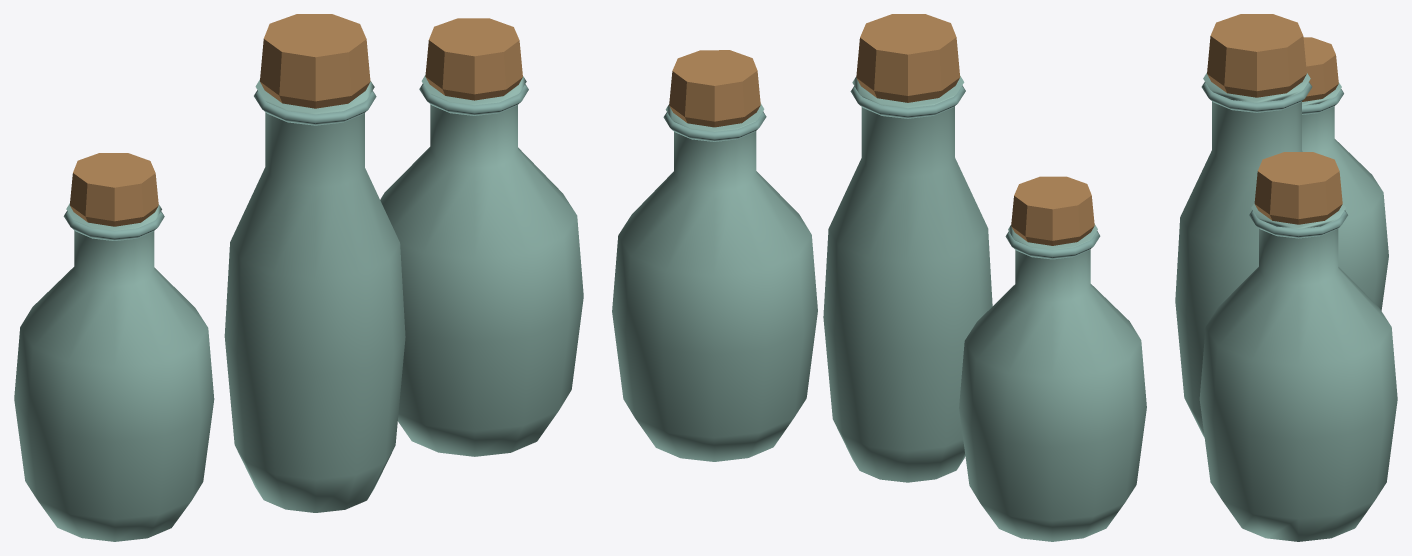
Rendered from potion_bottles.glb.
3 views of the same model, side by side, from view 1: azimuth 30°, elevation 25°; view 2: azimuth 150°, elevation 25°; view 3: azimuth 270°, elevation 25° (orthographic). The views are drawn at different scales.
Visible parts, largest first — view 1: potion_bottles; view 2: potion_bottles; view 3: potion_bottles.
Part boxes in pixels (bbox=[...]): potion_bottles: bbox=[14, 14, 583, 541]; potion_bottles: bbox=[612, 14, 1146, 541]; potion_bottles: bbox=[1175, 14, 1397, 541].
Size of the model in its own units: 0.35 by 0.28 by 0.14.
